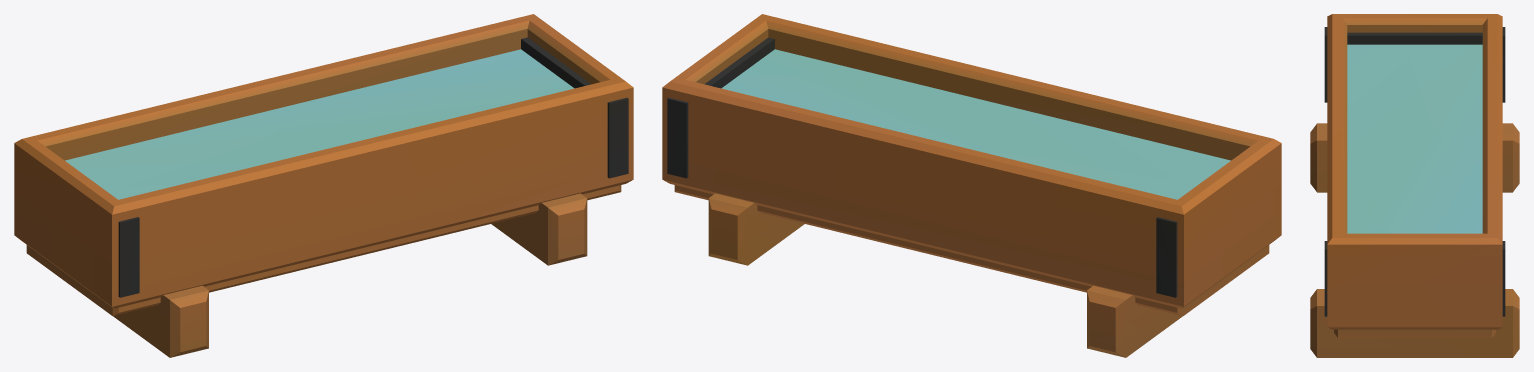
The model's file is Farm_Trough.glb.
The picture shows the model from 3 angles, left to right: view 1: azimuth 30°, elevation 25°; view 2: azimuth 150°, elevation 25°; view 3: azimuth 270°, elevation 25°; orthographic projection. The views are drawn at different scales.
Parts seen in each view (by area): view 1: Farm_Trough; view 2: Farm_Trough; view 3: Farm_Trough.
Part boxes in pixels (left/top/right/bottom): Farm_Trough: left=14, top=14, right=633, bottom=357; Farm_Trough: left=662, top=14, right=1281, bottom=357; Farm_Trough: left=1310, top=14, right=1519, bottom=357.
Bounding box in the file's own units: 1.6 × 0.46 × 0.62.
